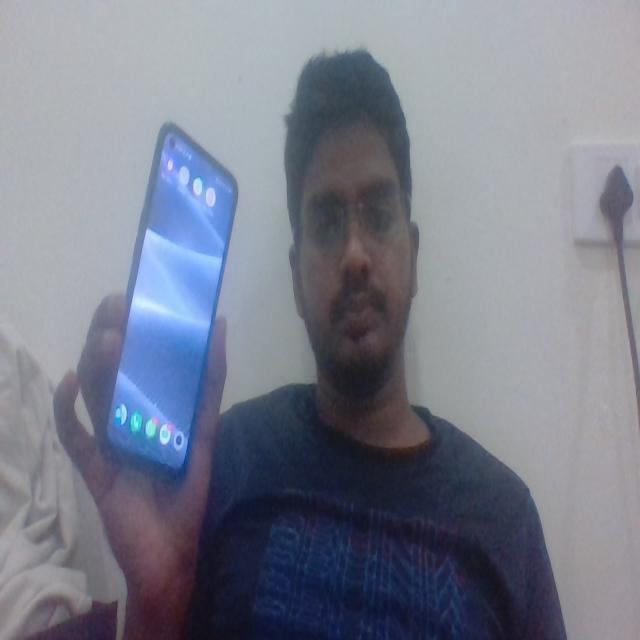Phone: (99, 115, 241, 486)
